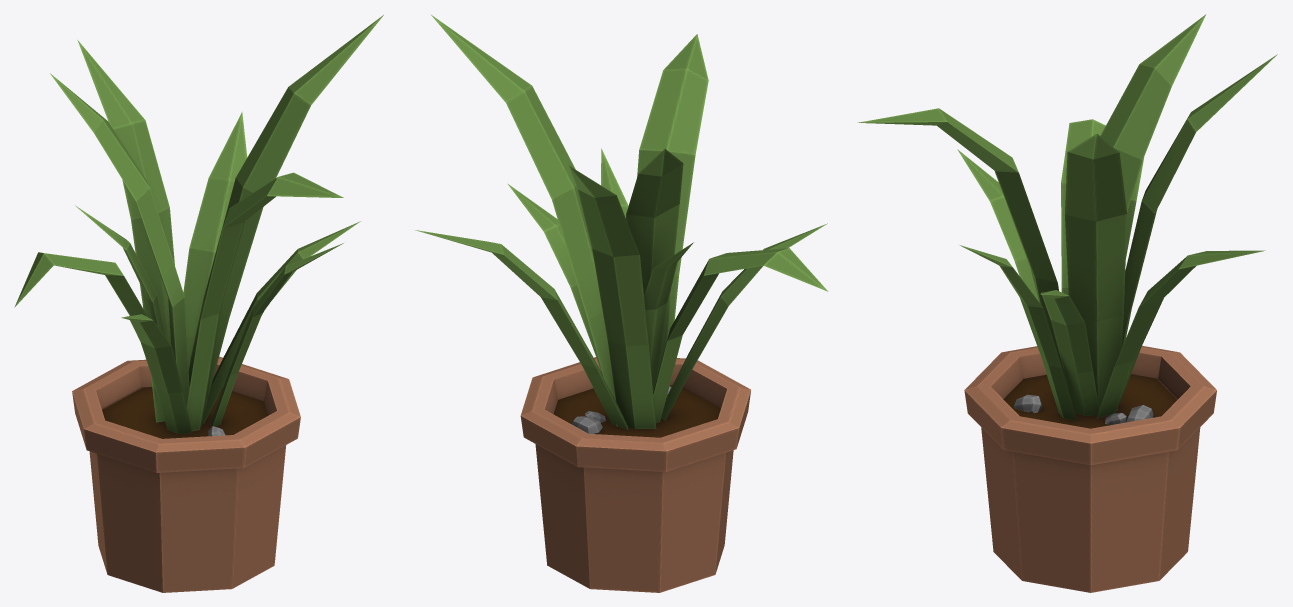
File: pot_plant.glb
The picture shows the model from 3 angles, left to right: view 1: azimuth 30°, elevation 25°; view 2: azimuth 150°, elevation 25°; view 3: azimuth 270°, elevation 25°; orthographic projection. The views are drawn at different scales.
Parts seen in each view (by area): view 1: pot_plant; view 2: pot_plant; view 3: pot_plant.
Part boxes in pixels (x1,y1,x2,y2): pot_plant: (14,15,383,592); pot_plant: (415,15,828,592); pot_plant: (857,14,1277,592).
Bounding box in the file's own units: 0.8175 × 1 × 0.7306.
1 material, 1 textured.
